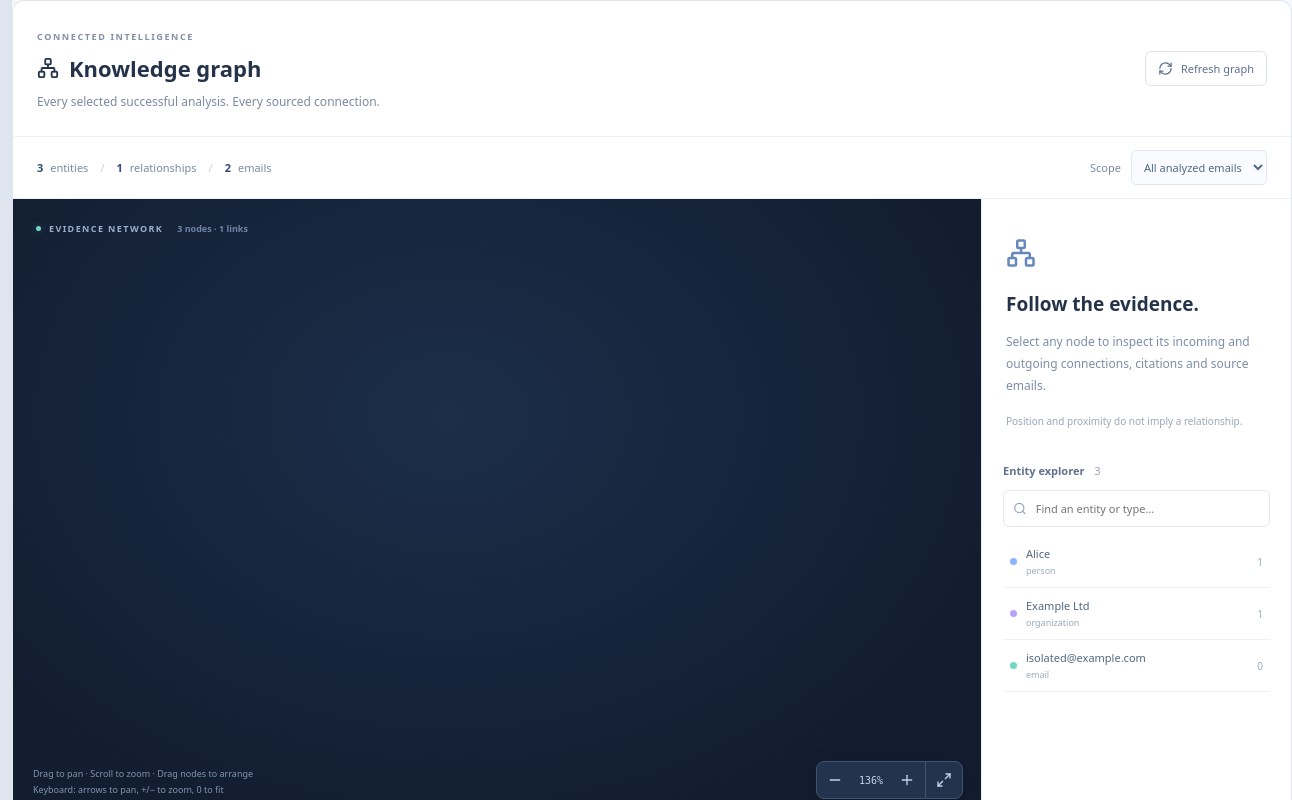
Test case: email scope filters canvas and explorer without creating implied relationships
Select "Subject m2" in the dropdown named "Graph email scope": (1199, 168) [1131, 150, 1267, 185]
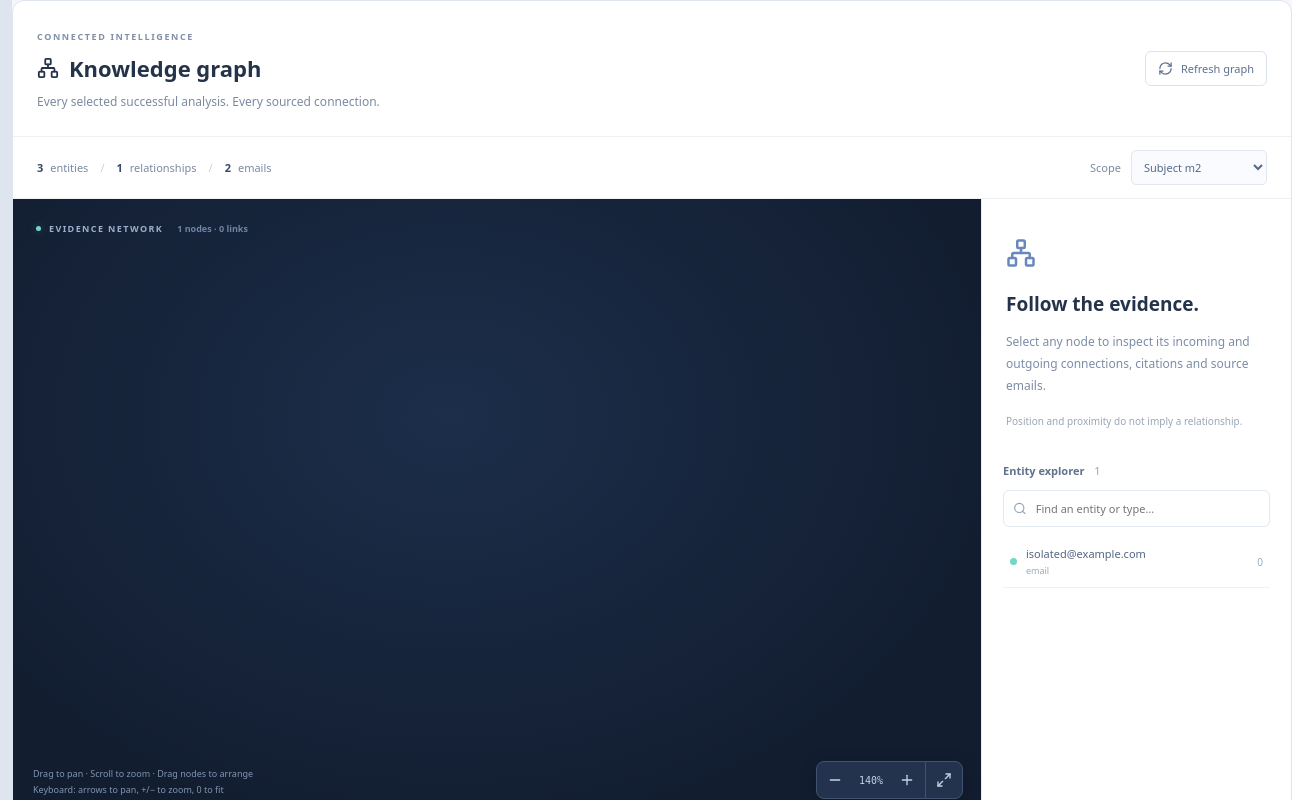
Expected: the button "Alice person 1" is gone
In the field named "Search graph entities": (1147, 509) [1034, 500, 1260, 518], type "unknown"
(page scrolled)
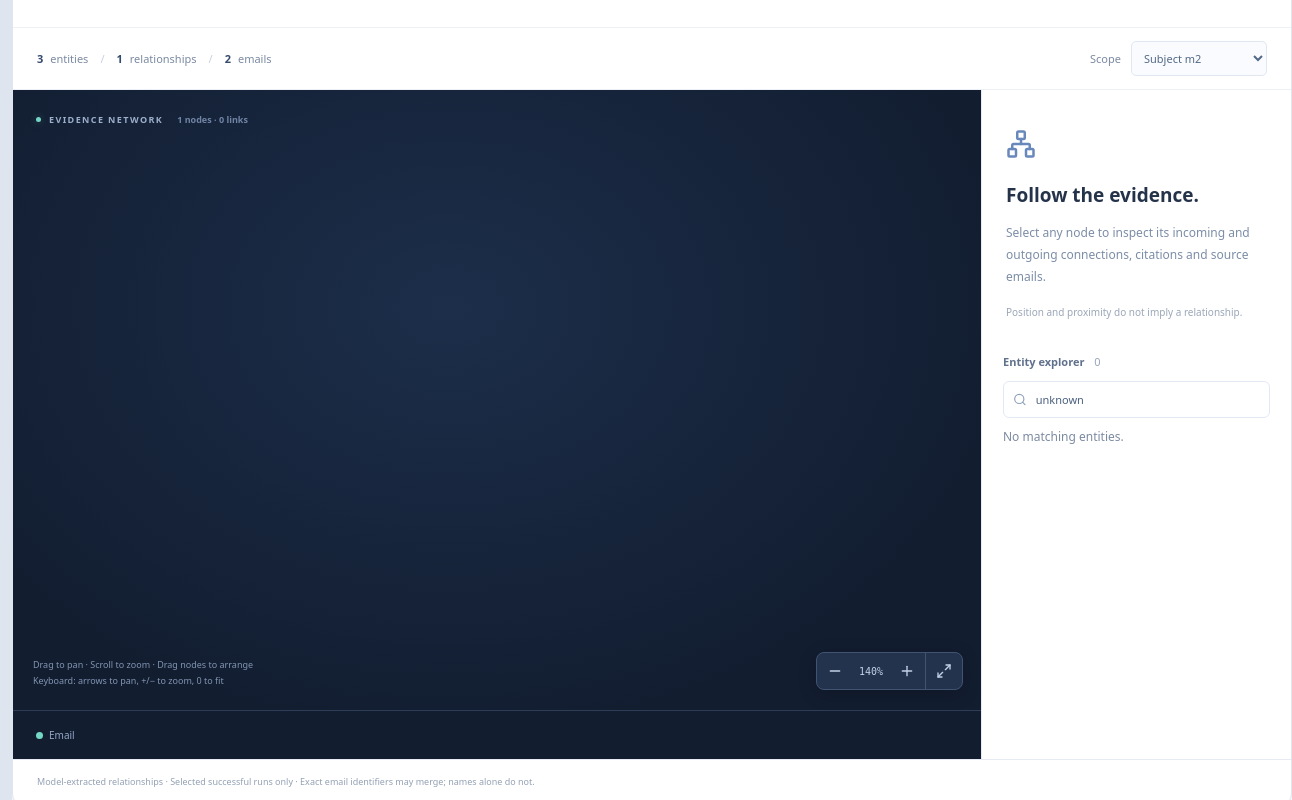
Expected: the picture named "1 entities, 0 relationships" is shown, [13, 90, 981, 710]
Expected: the text "No matching entities." is shown, [1003, 428, 1124, 446]
